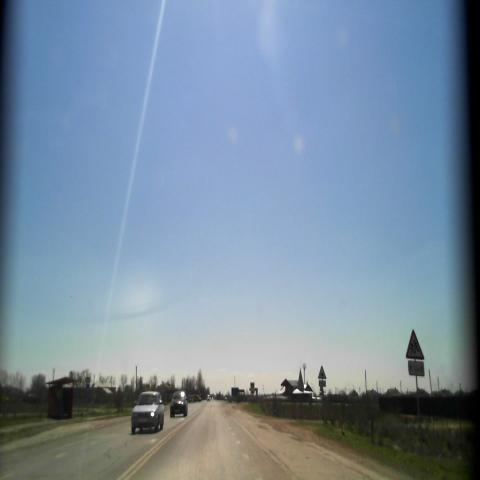1_26: (318, 362, 328, 382)
